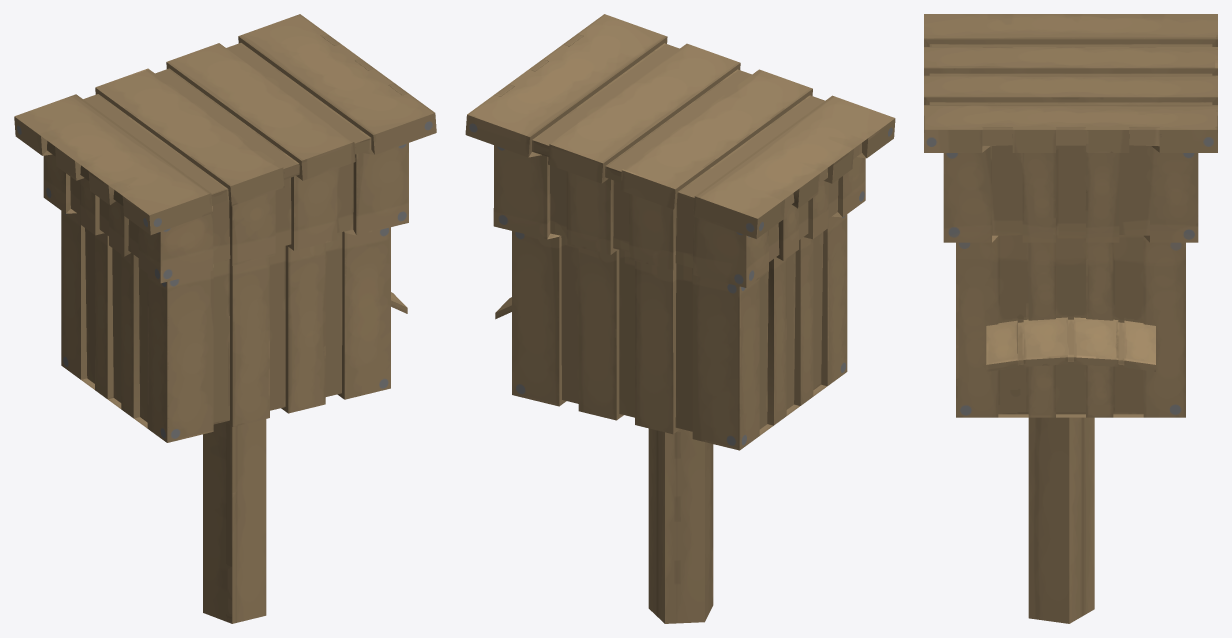
File: apiario.fbx
3 renders of one model, left to right at view 1: azimuth 30°, elevation 25°; view 2: azimuth 150°, elevation 25°; view 3: azimuth 270°, elevation 25°, orthographic. The views are drawn at different scales.
Parts seen in each view (by area): view 1: apiario; view 2: apiario; view 3: apiario.
Part boxes in pixels (bbox=[...]): apiario: bbox=[14, 14, 436, 623]; apiario: bbox=[465, 14, 895, 623]; apiario: bbox=[924, 14, 1217, 623].
Bounding box in the file's own units: 227 × 385 × 185.
1 material, 1 textured.
